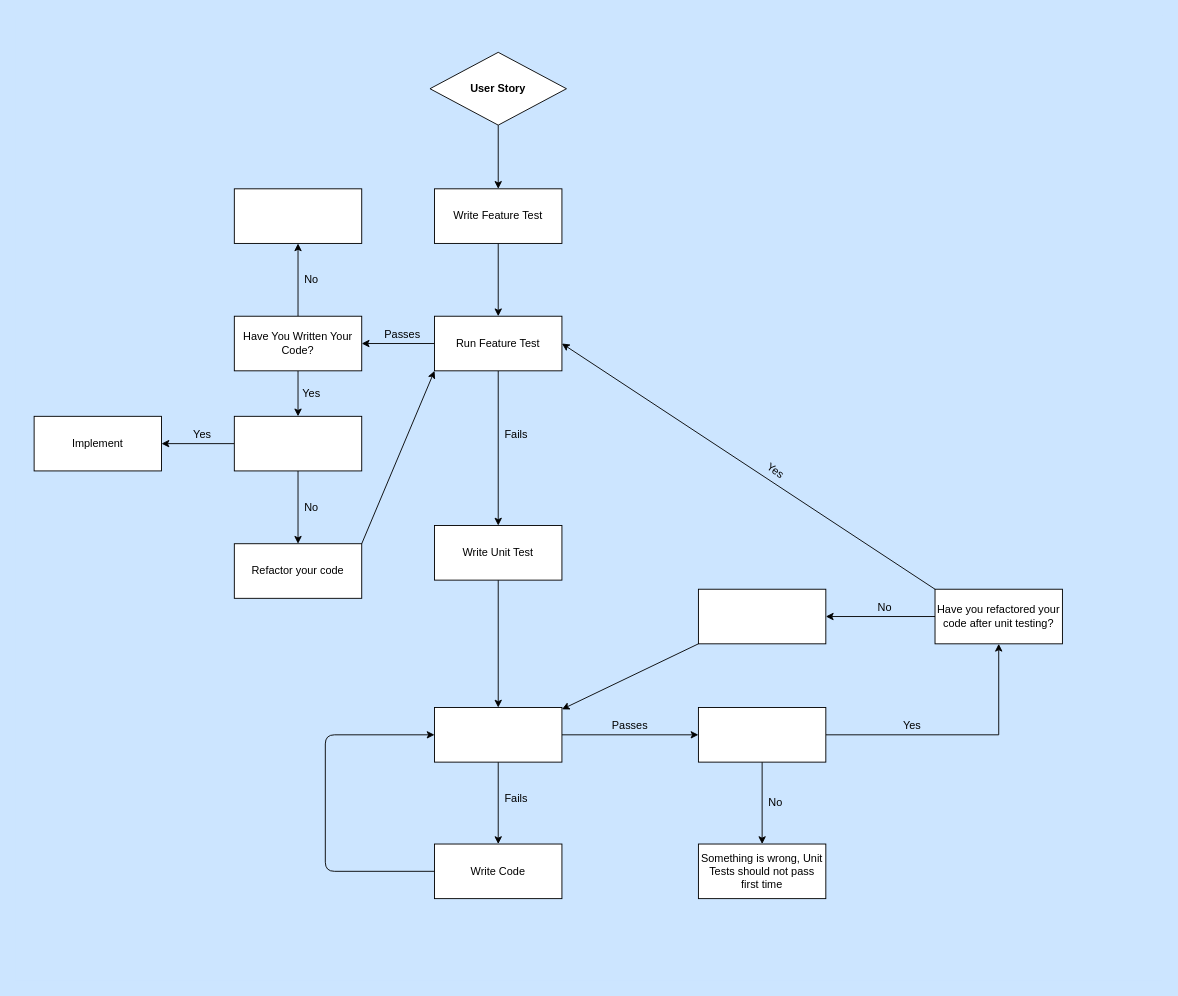
This 1178x996 diagram has some shape labels left out. The centre of each missing label's shape, as x and y in pixels:
"Have you refactored after Feature Testing" goes at pixel 297 443.
"Have you written your code" goes at pixel 762 734.
"Refactor Code" goes at pixel 762 616.
"Run Unit Test" goes at pixel 498 734.
"Something is wrong, Feature Tests should not pass first time" goes at pixel 297 215.
